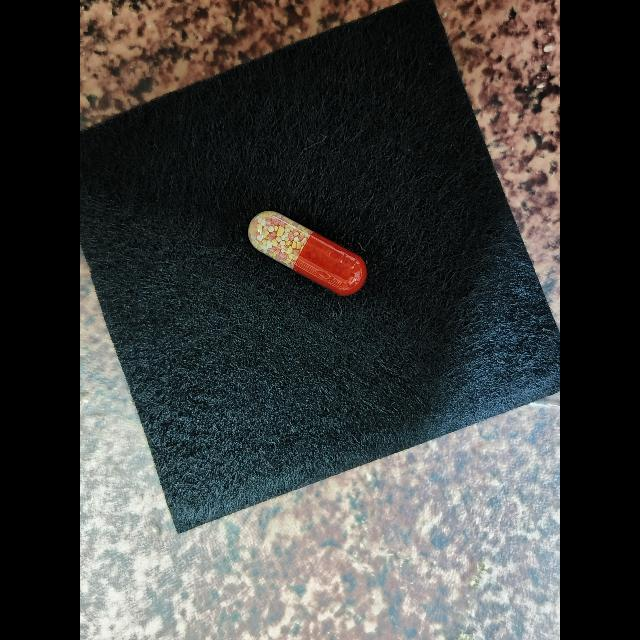Intact Capsule: (248, 211, 367, 296)
